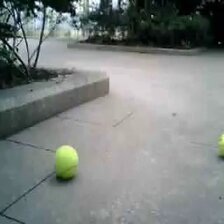tennis: (54, 147, 77, 177)
